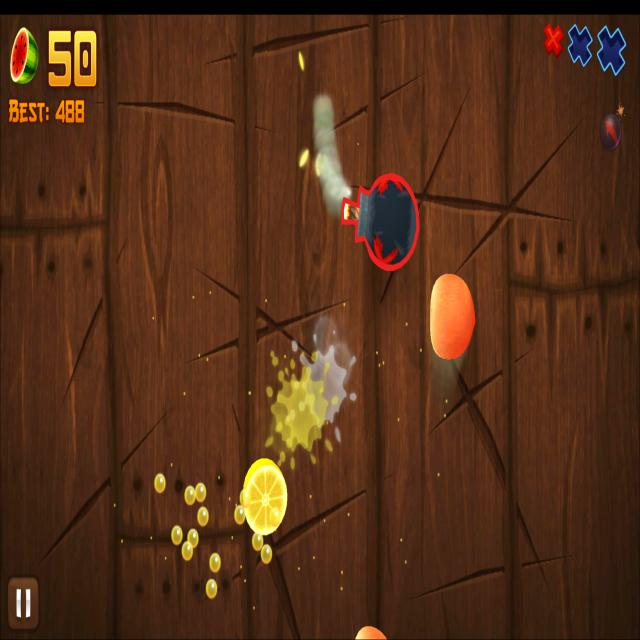fruit: (342, 172, 420, 272), (430, 272, 476, 362)
